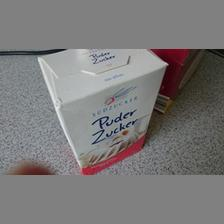Zucker: (36, 47, 168, 172)
